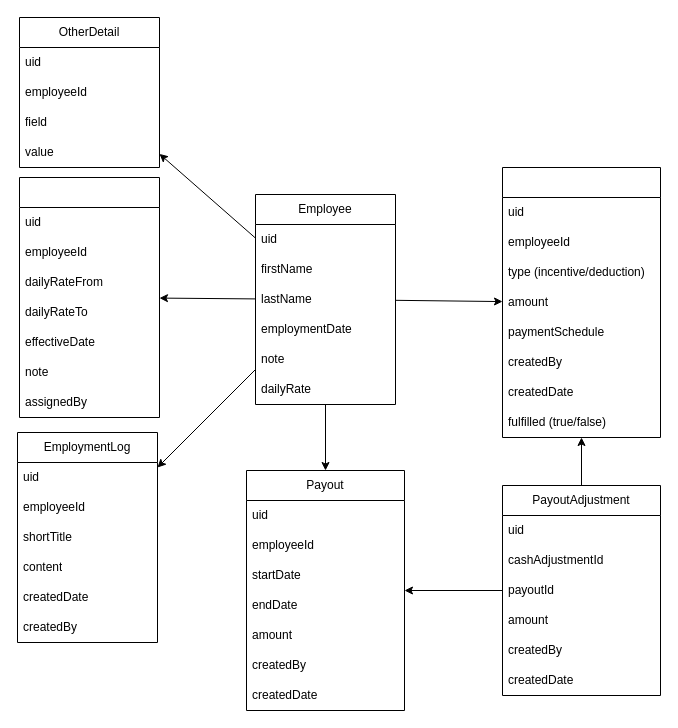
The diagram is 678 pixels wide and 728 high, and some of its shapes have lost their labels. The box of each missing label's shape, as (x1, y1, x2, y2) in pixels:
CashAdjustment: (502, 166, 660, 438)
SalaryLog: (18, 176, 160, 418)
